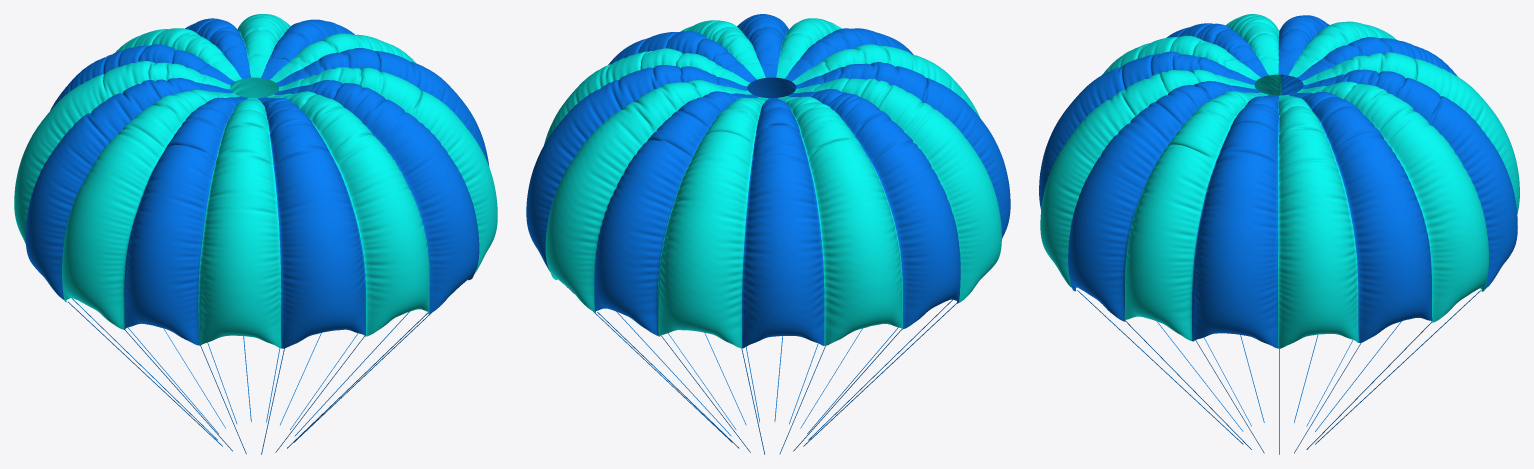
The model's file is parachute.glb.
3 views of the same model, side by side, from view 1: azimuth 30°, elevation 25°; view 2: azimuth 150°, elevation 25°; view 3: azimuth 270°, elevation 25° (orthographic).
Visible parts, largest first — view 1: GLOBO.030, Circle; view 2: GLOBO.030, Circle; view 3: GLOBO.030, Circle.
Part boxes in pixels (x1,y1,x2,y2): GLOBO.030: (14, 14, 497, 348); Circle: (68, 286, 459, 454); GLOBO.030: (526, 14, 1010, 348); Circle: (566, 286, 956, 454); GLOBO.030: (1039, 14, 1519, 348); Circle: (1077, 290, 1480, 454).
Size of the model in its own units: 12.31 by 10.63 by 12.32.
